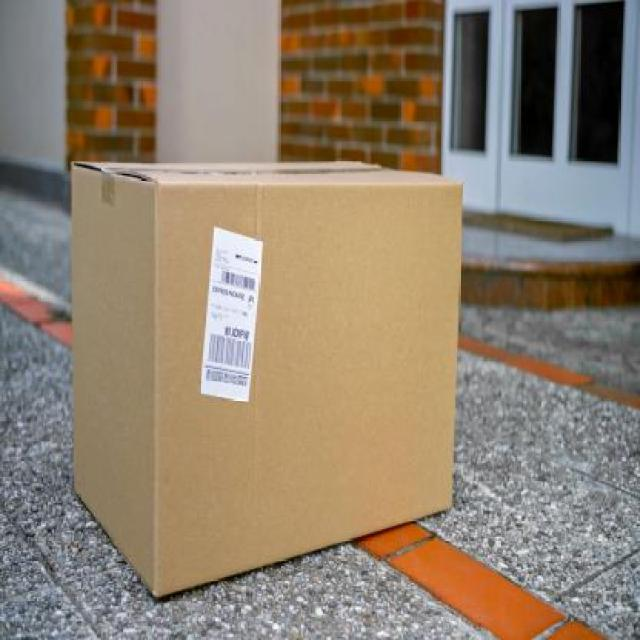cardboxes: (67, 154, 465, 608)
